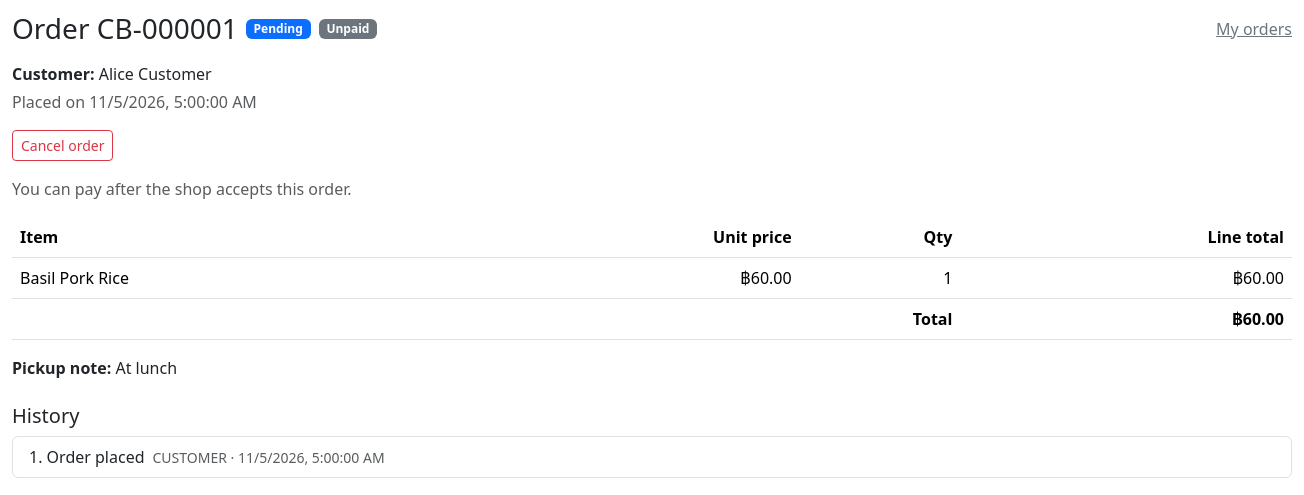
Test: OrderDetail cancellation (AC-66) › TEST-66: Keep order closes the confirmation and sends nothing
The image size is (1304, 495).
Click the button "Cancel order". click: (63, 145)
box: x1=12 y1=130 x2=114 y2=161
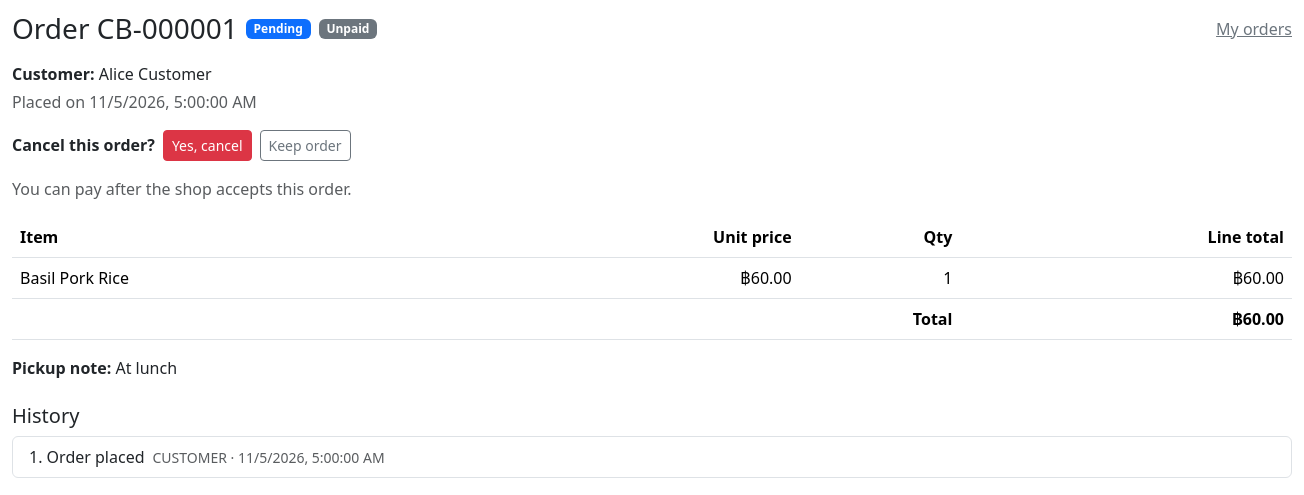
Expected: the text "Cancel this order?" is shown, x1=12 y1=133 x2=155 y2=157
Click the button "Keep order". click: (305, 145)
box: x1=260 y1=130 x2=350 y2=161
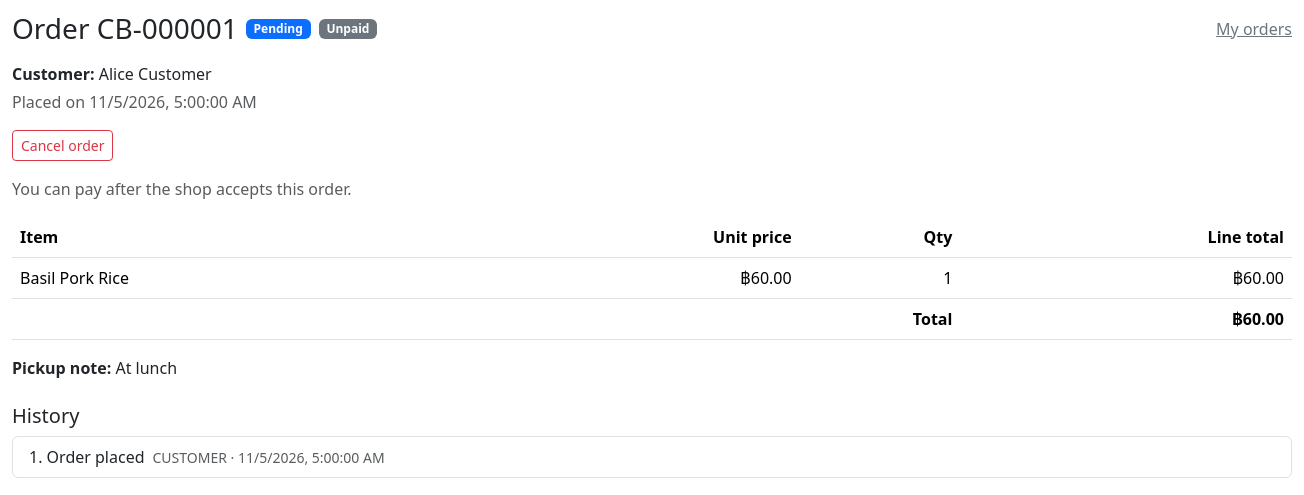
Expected: the text "Cancel this order?" is gone
Expected: the button "Cancel order" is shown, x1=12 y1=130 x2=114 y2=161
